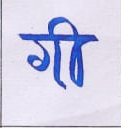i_matra: (56, 15, 88, 86)
